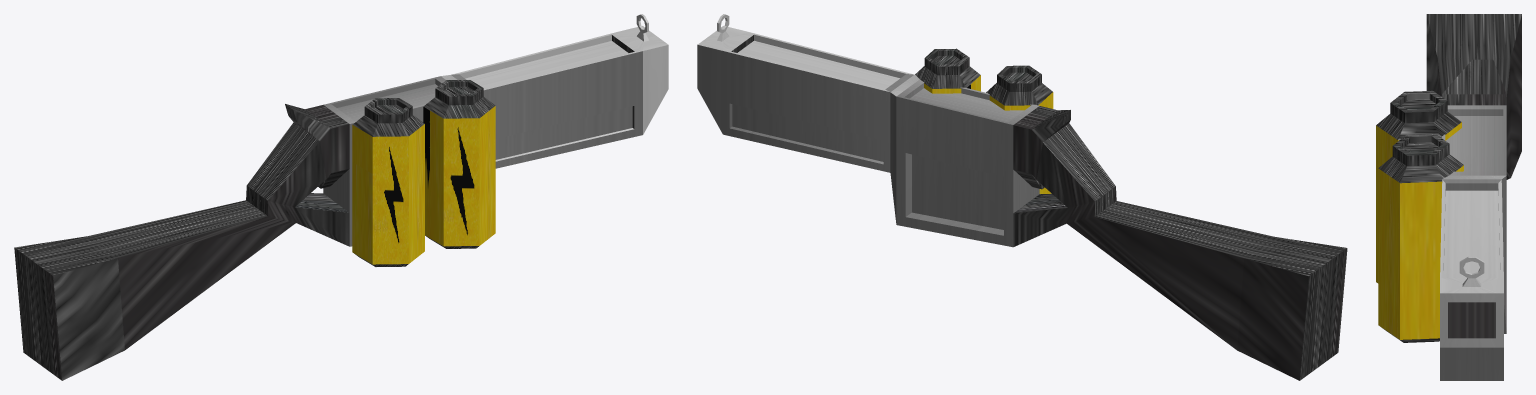
The model's file is energygun.glb.
3 views of the same model, side by side, from view 1: azimuth 30°, elevation 25°; view 2: azimuth 150°, elevation 25°; view 3: azimuth 270°, elevation 25° (orthographic). The views are drawn at different scales.
Visible parts, largest first — view 1: Pistol, Battery.002, Battery.001; view 2: Pistol, Battery.002, Battery.001; view 3: Pistol, Battery.001, Battery.002.
Boxes of the visible parts, x1=… form: Pistol: x1=14, y1=14, x2=668, y2=380; Battery.002: x1=352, y1=98, x2=424, y2=266; Battery.001: x1=423, y1=80, x2=495, y2=248; Pistol: x1=697, y1=14, x2=1347, y2=380; Battery.002: x1=986, y1=65, x2=1053, y2=193; Battery.001: x1=915, y1=48, x2=980, y2=93; Pistol: x1=1426, y1=14, x2=1521, y2=380; Battery.001: x1=1378, y1=133, x2=1463, y2=342; Battery.002: x1=1376, y1=90, x2=1461, y2=283.
Size of the model in its own units: 2.58 by 0.8186 by 0.4284.
Materials: 1 (1 with a texture image).
